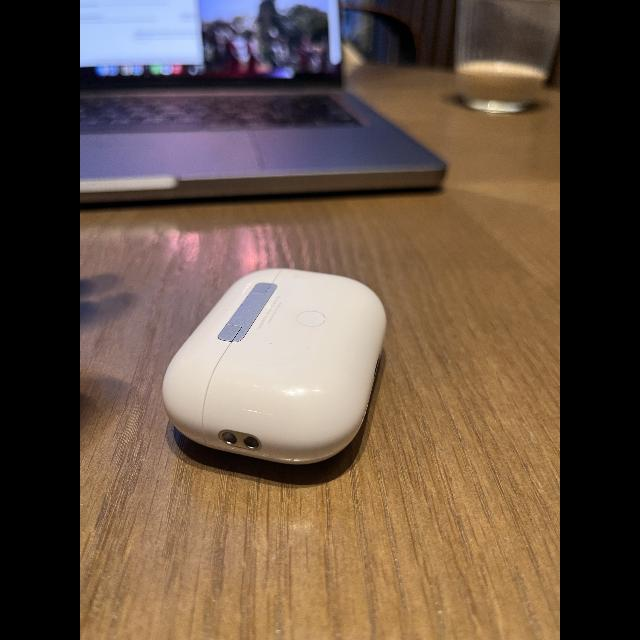AirPods Pro: (160, 266, 390, 484)
